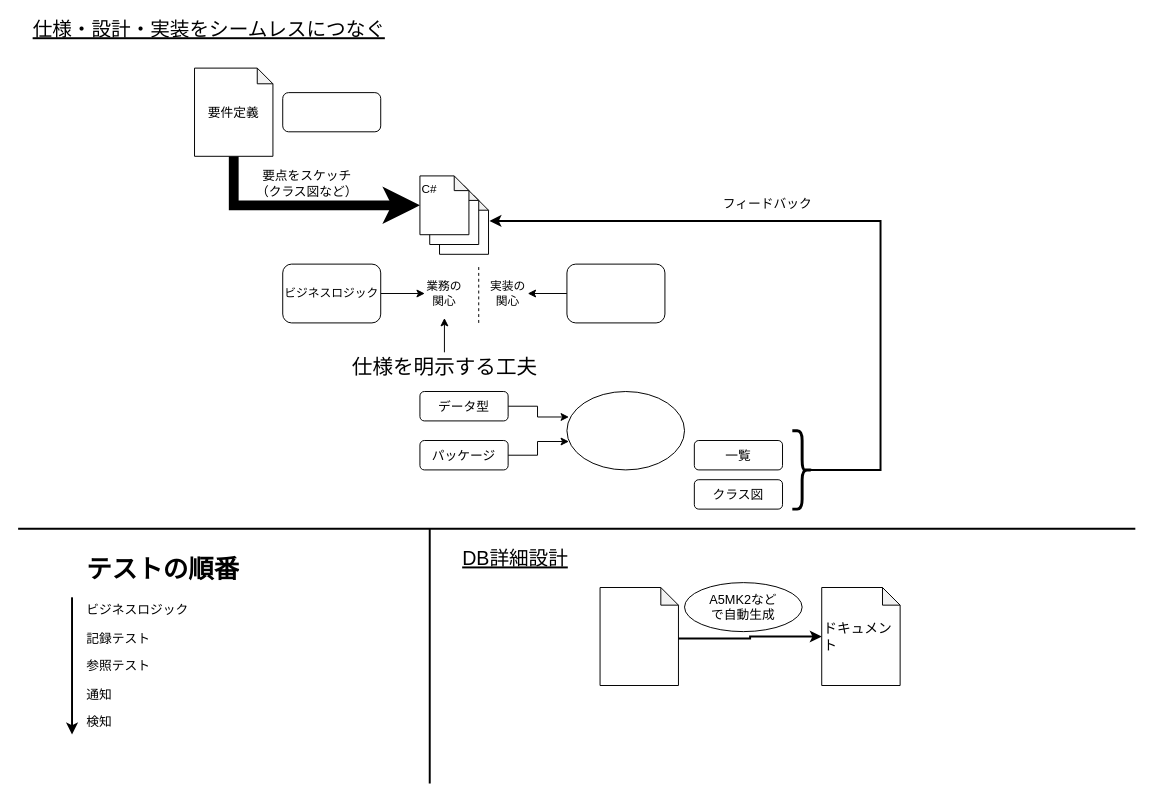
Some shapes in this 1153 by 802 pixel diagram are drawn without their labels. The shapes that lost their labels are listed below. From the top down, each one's centre as x and y in pixels, then its label:
At point (331, 112): "RDRAによる定義".
At point (615, 293): "入出力".
At point (625, 430): "ツールで ドキュメント生成".
At point (638, 636): "DDL分".
